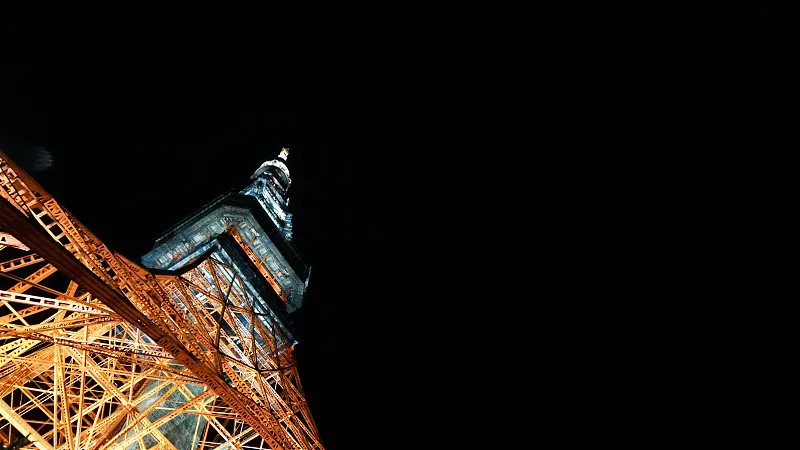Tokyo: (1, 139, 326, 450)
